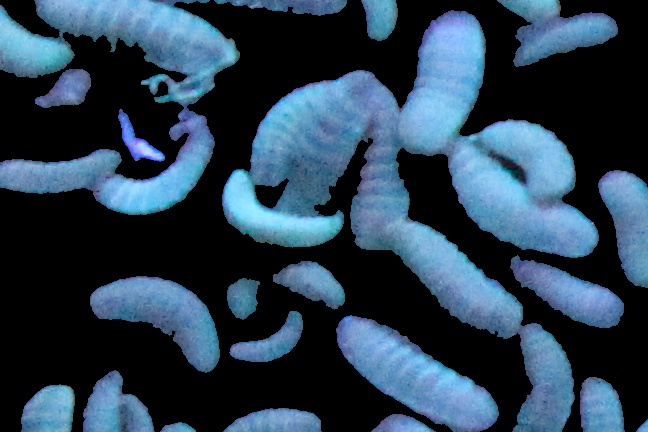larvae: (435, 143, 605, 266), (378, 212, 526, 343), (337, 317, 498, 425), (449, 143, 601, 254), (82, 274, 228, 382), (24, 1, 234, 76), (395, 7, 484, 164), (211, 164, 351, 257), (249, 71, 343, 189), (468, 111, 586, 201), (97, 136, 220, 220), (218, 252, 348, 329), (360, 99, 416, 253), (510, 258, 623, 332), (595, 158, 648, 290), (1, 148, 123, 202), (515, 329, 573, 432), (511, 14, 615, 64), (1, 4, 75, 73), (229, 303, 306, 369), (569, 358, 632, 432), (225, 398, 323, 432)
